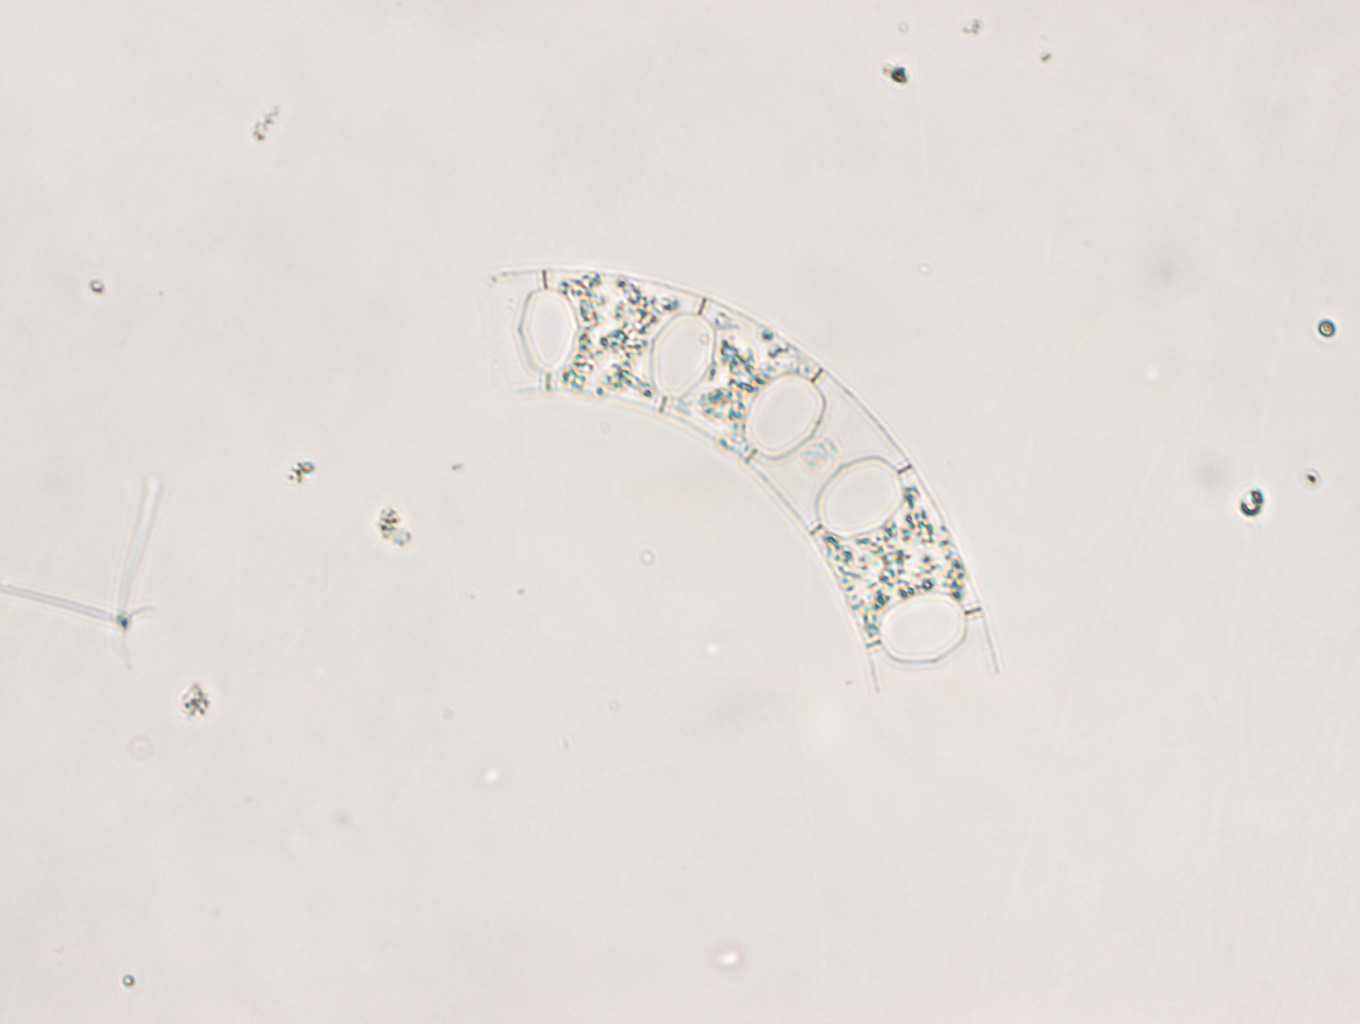eucampia: (491, 267, 1002, 692)
